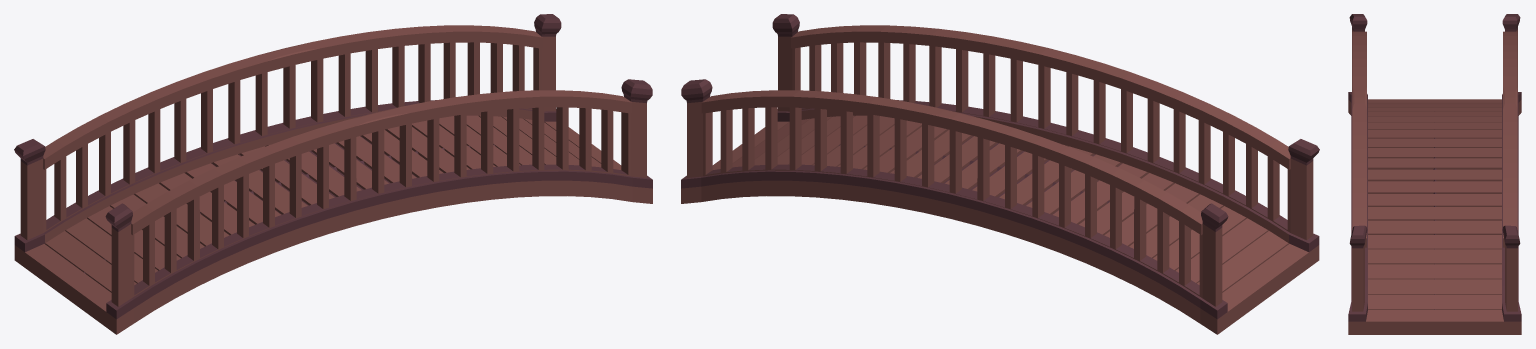
The model's file is ponte.fbx.
The picture shows the model from 3 angles, left to right: view 1: azimuth 30°, elevation 25°; view 2: azimuth 150°, elevation 25°; view 3: azimuth 270°, elevation 25°; orthographic projection. The views are drawn at different scales.
Visible parts, largest first — view 1: Cube.002; view 2: Cube.002; view 3: Cube.002.
Boxes of the visible parts, x1,y1,x2,y2 form: Cube.002: (14,14,652,334); Cube.002: (681,14,1319,334); Cube.002: (1348,14,1521,334).
Size of the model in its own units: 10.79 by 2.85 by 3.53.
